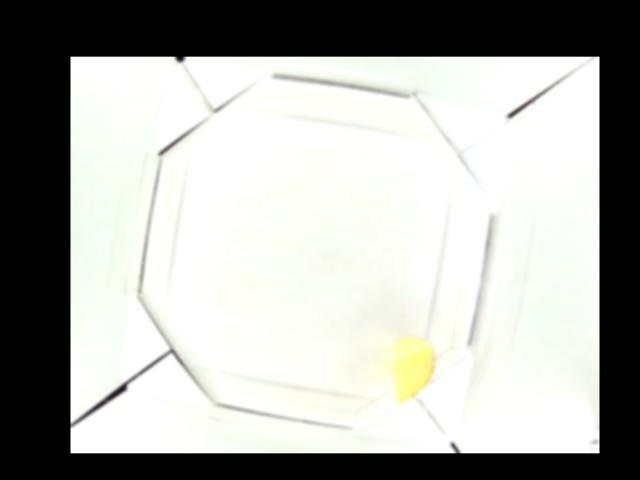Potato: (389, 336, 436, 402)
